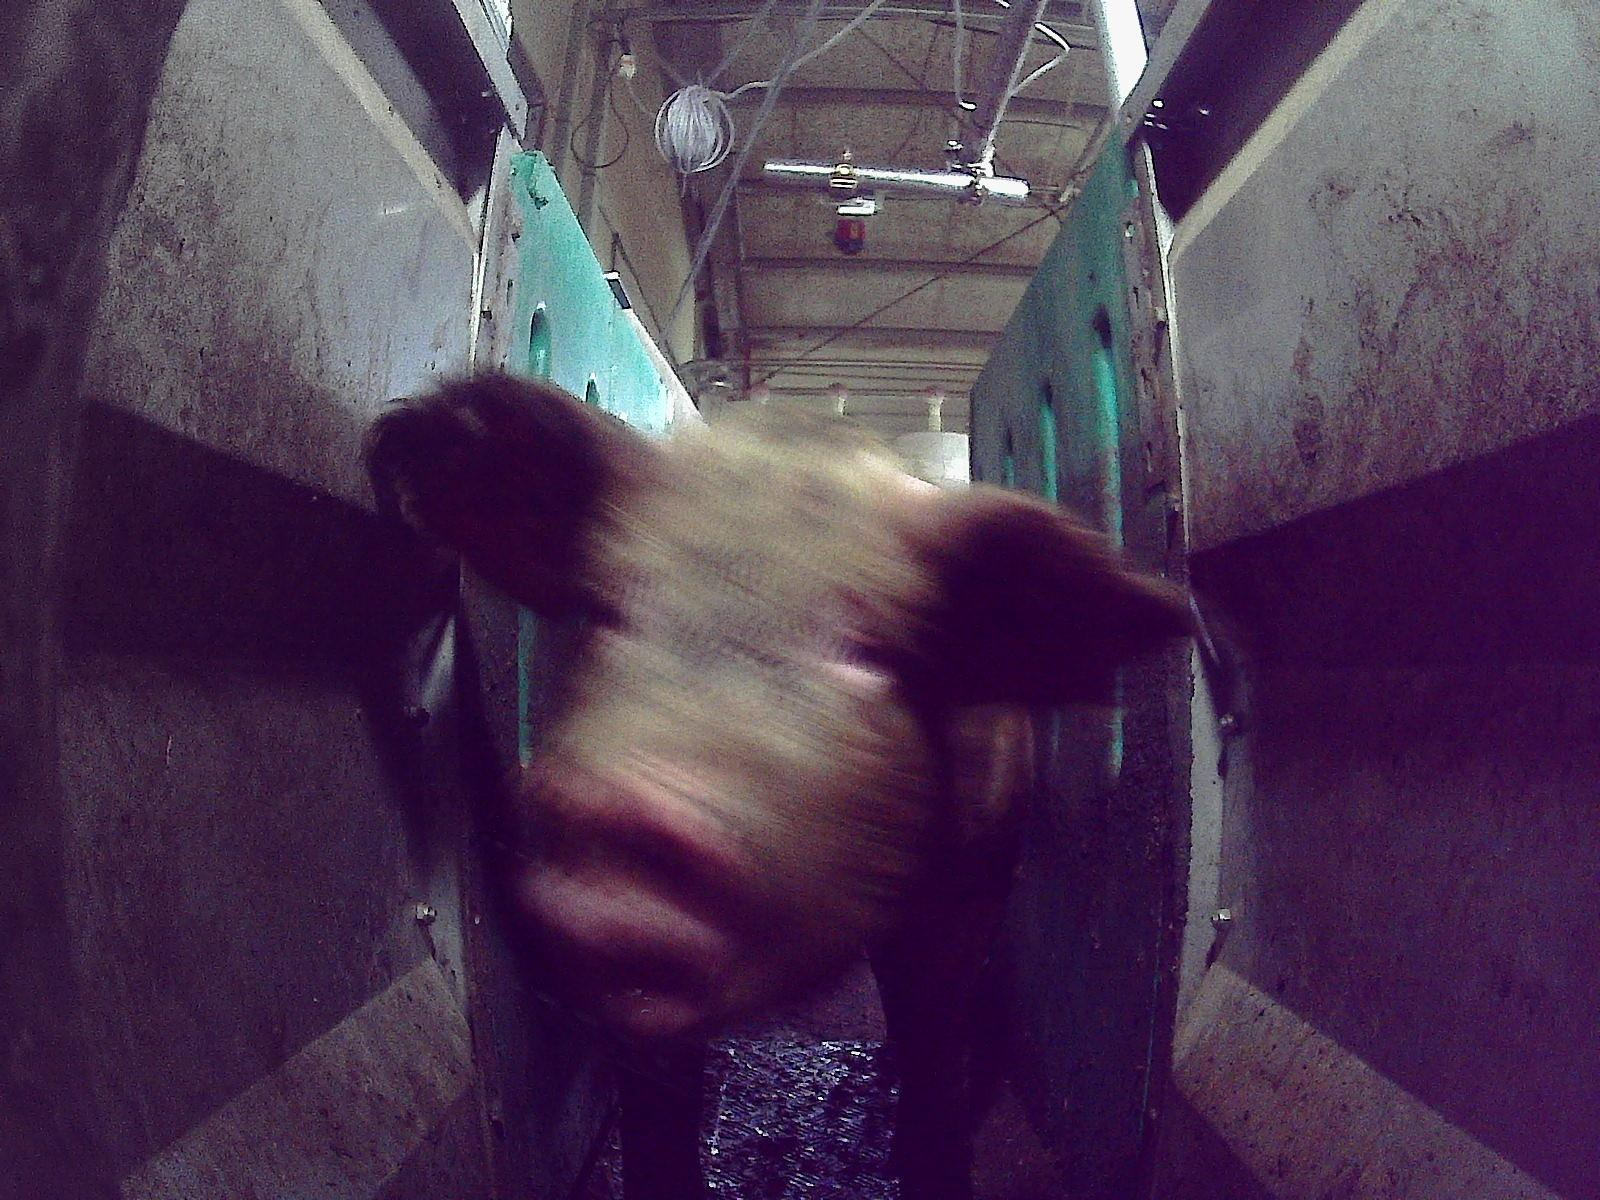Face: (492, 462, 952, 1044)
